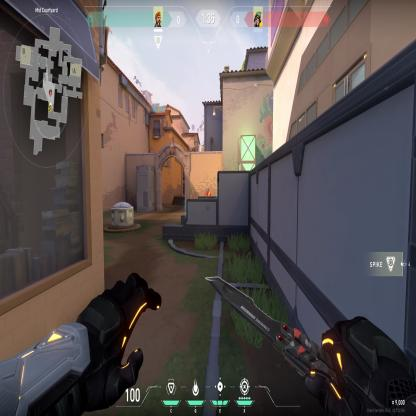enemy: (204, 184, 212, 196)
